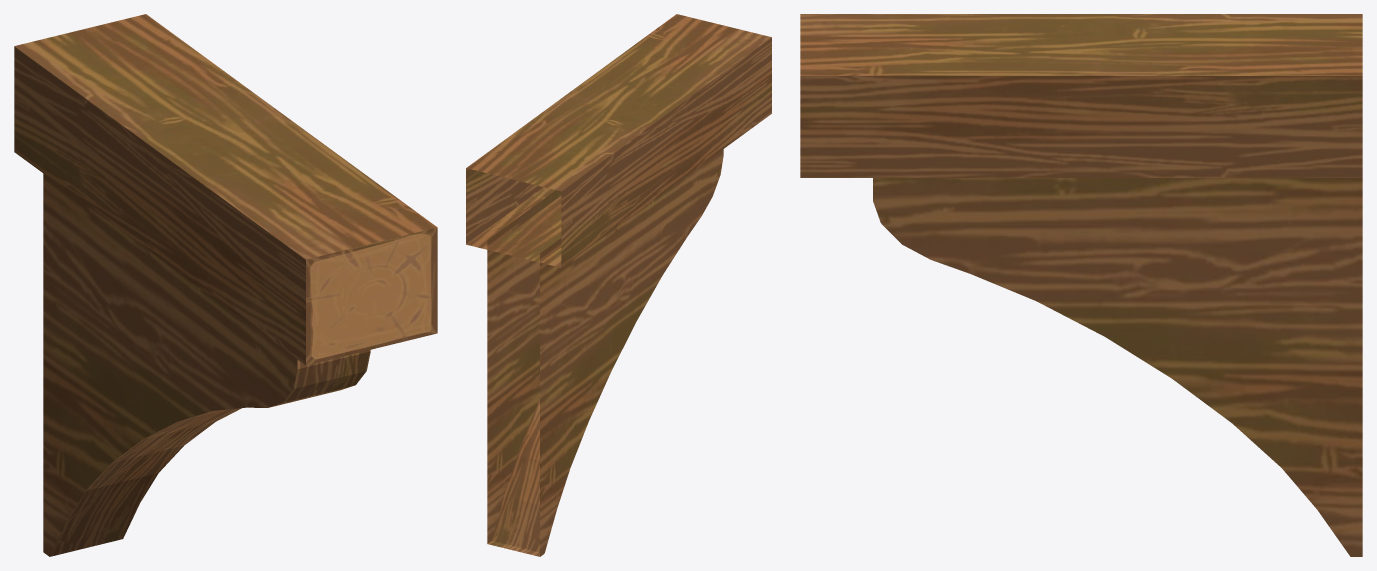
Rendered from Roof_Support2.gltf.
The picture shows the model from 3 angles, left to right: view 1: azimuth 30°, elevation 25°; view 2: azimuth 150°, elevation 25°; view 3: azimuth 270°, elevation 25°; orthographic projection. The views are drawn at different scales.
Visible parts, largest first — view 1: Roof_Support2; view 2: Roof_Support2; view 3: Roof_Support2.
Part boxes in pixels (<box>): Roof_Support2: <box>14,14,437,556</box>; Roof_Support2: <box>466,14,771,556</box>; Roof_Support2: <box>800,14,1362,556</box>.
Size of the model in its own units: 0.1997 by 0.7429 by 0.7651.
1 material, 1 textured.
